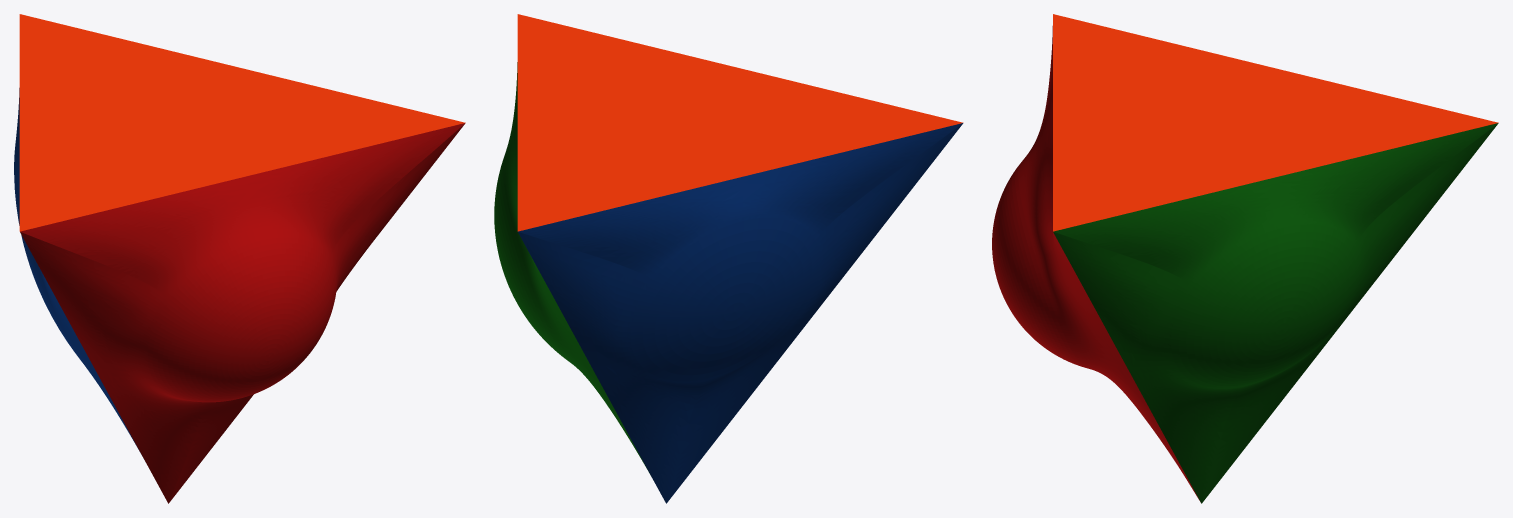
Rendered from 0_3_1_2_tetrahedron.obj.
3 views of the same model, side by side, from view 1: azimuth 30°, elevation 25°; view 2: azimuth 150°, elevation 25°; view 3: azimuth 270°, elevation 25° (orthographic).
Parts seen in each view (by area): view 1: Level_3_-_level_3_front_Level_3_-_level_3_front.001, Level_0_-_level_0_top, Level_1_-_level_1_left_Level_1_-_level_1_left.002; view 2: Level_1_-_level_1_left_Level_1_-_level_1_left.002, Level_0_-_level_0_top, Level_2_-_level_2_right_Level_2_-_level_2_right.001; view 3: Level_2_-_level_2_right_Level_2_-_level_2_right.001, Level_0_-_level_0_top, Level_3_-_level_3_front_Level_3_-_level_3_front.001.
Part boxes in pixels (x1,y1,x2,y2): Level_3_-_level_3_front_Level_3_-_level_3_front.001: [20, 123, 465, 503]; Level_0_-_level_0_top: [19, 14, 465, 231]; Level_1_-_level_1_left_Level_1_-_level_1_left.002: [14, 88, 140, 452]; Level_1_-_level_1_left_Level_1_-_level_1_left.002: [518, 123, 963, 503]; Level_0_-_level_0_top: [517, 14, 963, 231]; Level_2_-_level_2_right_Level_2_-_level_2_right.001: [494, 62, 649, 473]; Level_2_-_level_2_right_Level_2_-_level_2_right.001: [1053, 123, 1498, 503]; Level_0_-_level_0_top: [1053, 14, 1498, 231]; Level_3_-_level_3_front_Level_3_-_level_3_front.001: [992, 26, 1199, 500].
Bounding box in the file's own units: 0.1 × 0.0816 × 0.0984.
